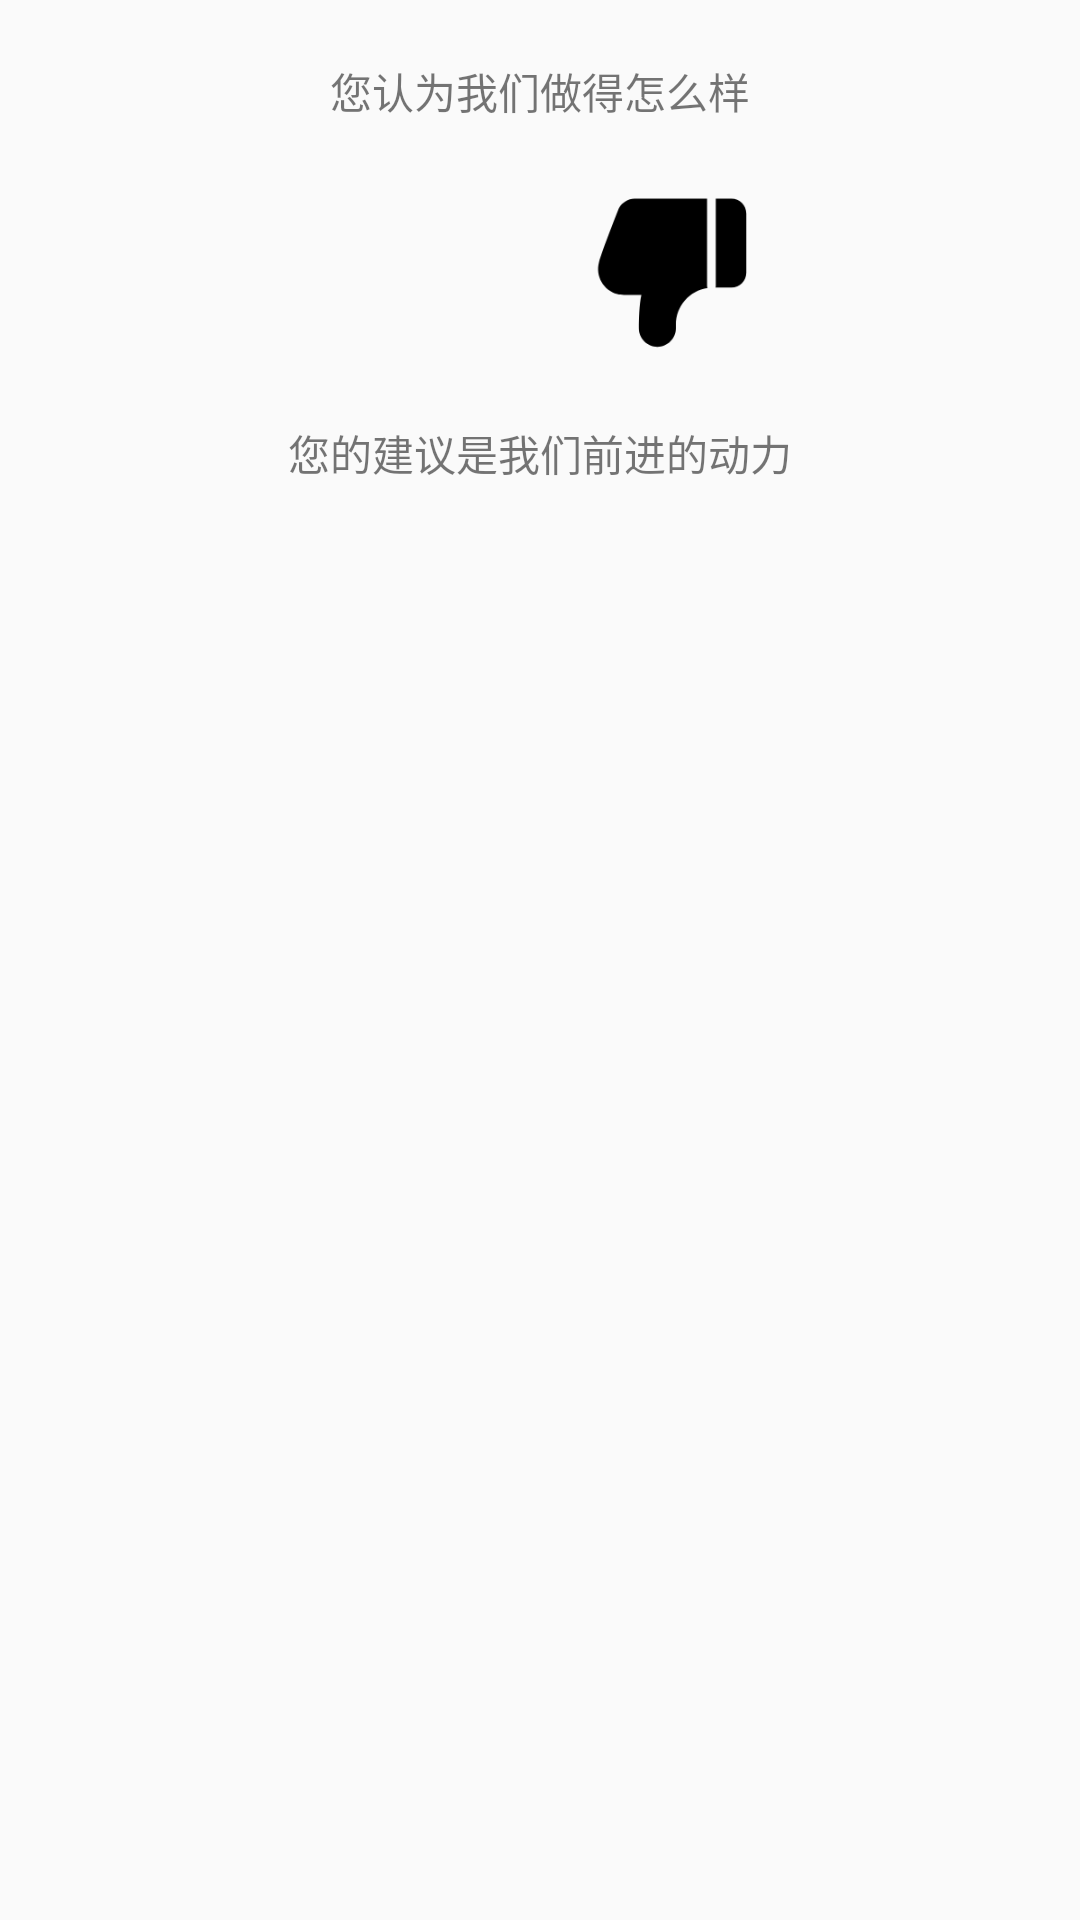

Where icons sit on this 1080*1920 app screen, as (x1, y1, x2, y2):
bad: (597, 198, 747, 348)
